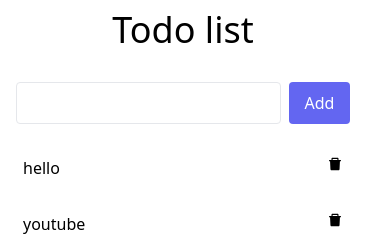
Scenario: given saved todos when deleting specific todo then remaining todo
This screenshot has width=367, height=251.
Click the icon with test id "delete-youtube": {"x": 335, "y": 220} [327, 212, 343, 228]
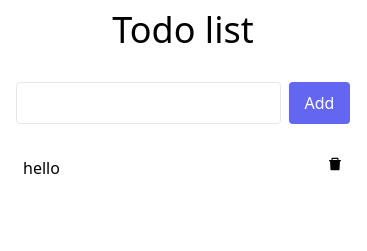
Result: the text "youtube" is gone
